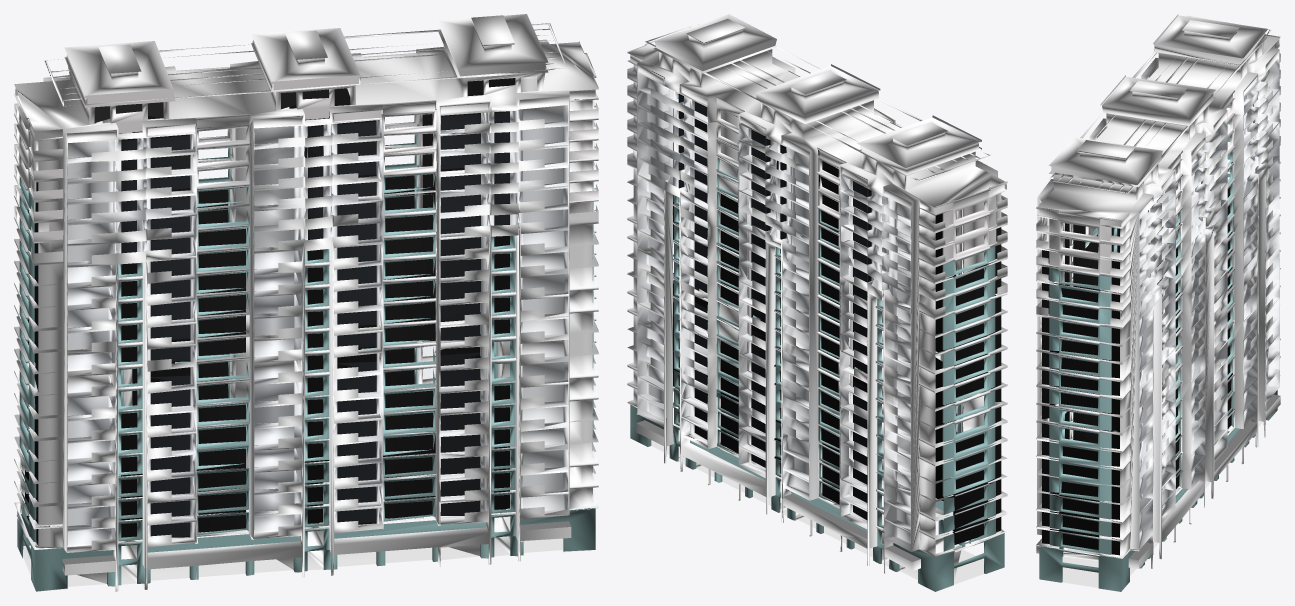
The model's file is building-1.glb.
3 renders of one model, left to right at view 1: azimuth 30°, elevation 25°; view 2: azimuth 150°, elevation 25°; view 3: azimuth 270°, elevation 25°, orthographic. The views are drawn at different scales.
Visible parts, largest first — view 1: part_01, part_02, part_00, part_03, part_04, part_08; view 2: part_01, part_02, part_00, part_03, part_04, part_08, part_05; view 3: part_01, part_02, part_00, part_03, part_04, part_08, part_05.
Boxes of the visible parts, x1,y1,x2,y2 form: part_01: [14, 23, 598, 591]; part_02: [25, 78, 576, 545]; part_00: [14, 41, 598, 574]; part_03: [19, 128, 593, 475]; part_04: [17, 422, 595, 591]; part_08: [438, 14, 548, 76]; part_01: [627, 19, 1007, 584]; part_02: [673, 94, 1001, 544]; part_00: [627, 33, 1007, 551]; part_03: [673, 94, 995, 496]; part_04: [630, 370, 1004, 591]; part_08: [654, 14, 776, 71]; part_05: [636, 420, 920, 561]; part_01: [1036, 15, 1280, 587]; part_02: [1042, 162, 1232, 555]; part_00: [1036, 14, 1280, 568]; part_03: [1049, 104, 1253, 501]; part_04: [1039, 377, 1277, 591]; part_08: [1049, 137, 1162, 184]; part_05: [1036, 394, 1279, 560].
Bounding box in the file's own units: 389 × 375 × 204.
9 materials, 2 textured.
